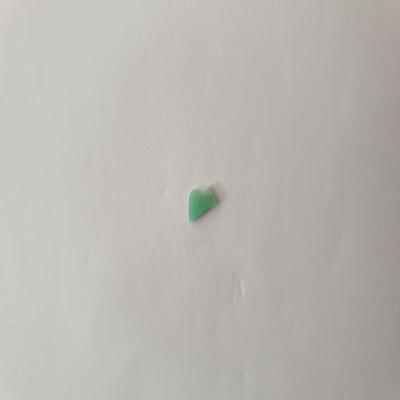plastic: (184, 183, 226, 225)
